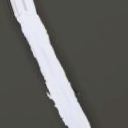crackTip: (4, 1, 69, 128)
